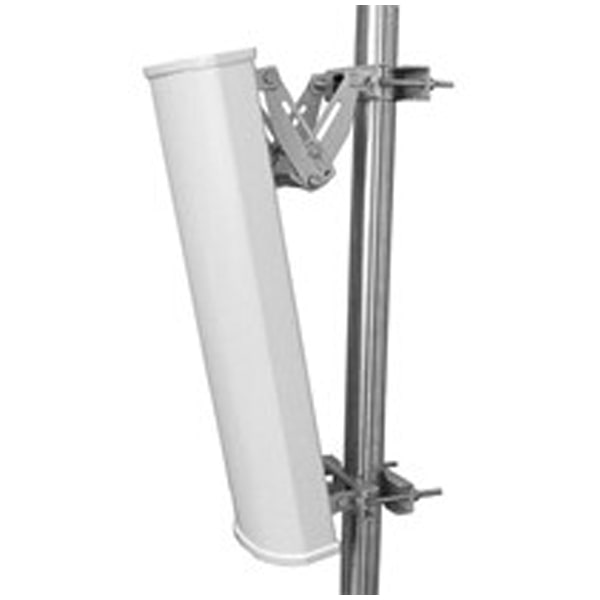sa: (122, 35, 455, 573)
